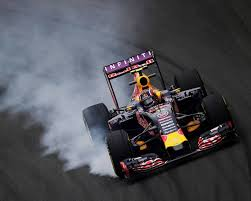FormulaOneCar: (81, 46, 240, 181)
